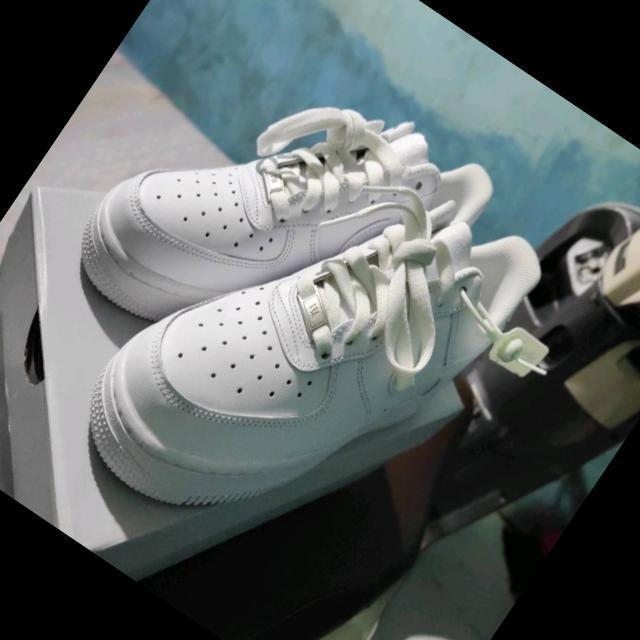nike original air force: (52, 82, 566, 623), (41, 0, 509, 447)
